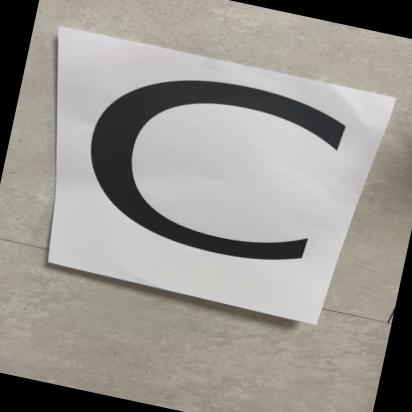seat: (33, 30, 374, 332)
